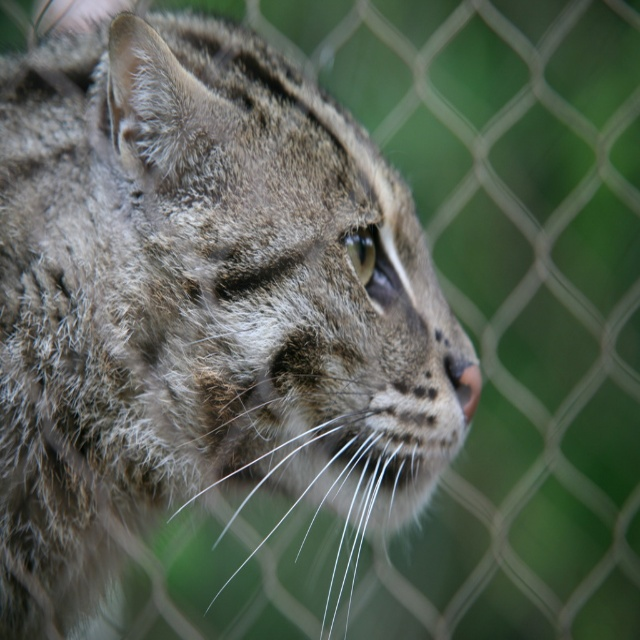Lynx: (0, 1, 482, 639)
